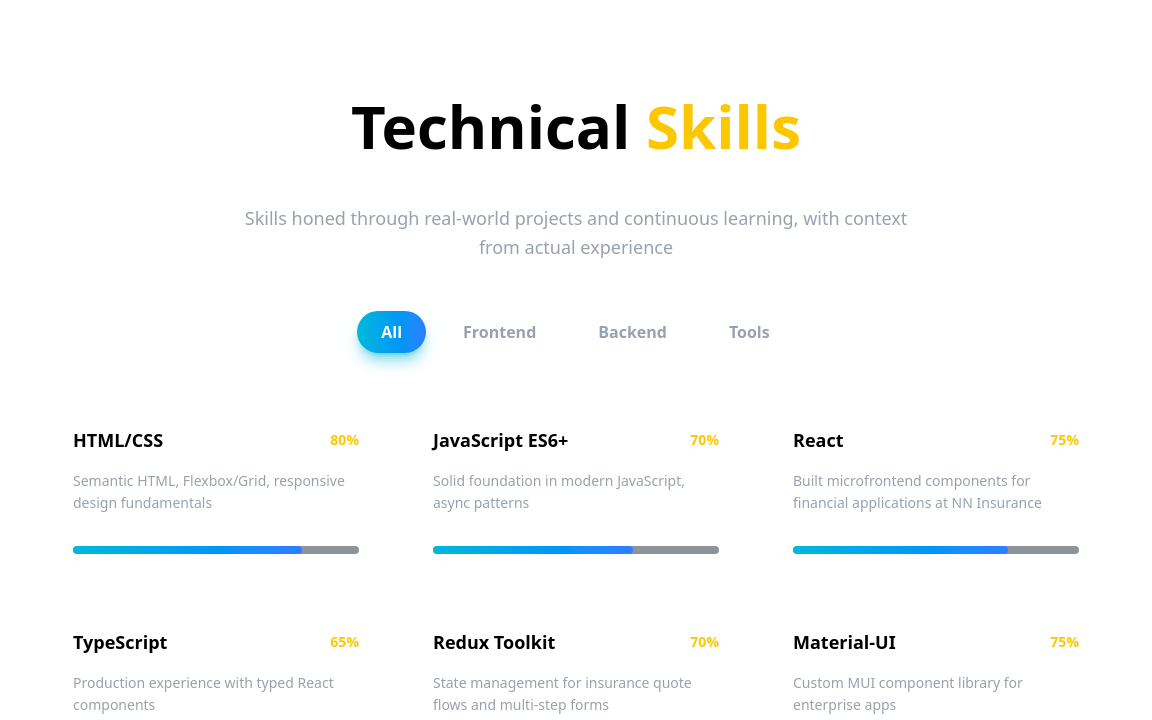
Test: SkillsSection — filter behaviour › Backend filter shows exactly the backend skill count
The width and height of the screenshot is (1152, 720).
Click the button "Backend" at (633, 332), box [573,310,692,352]
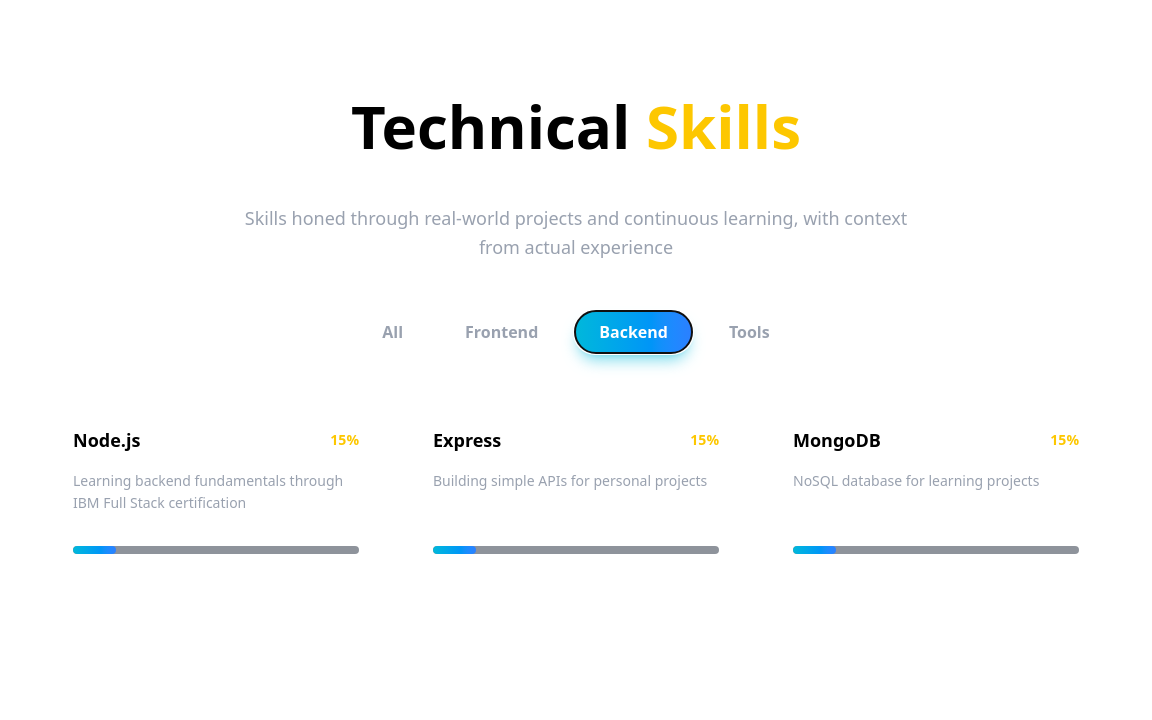
expect the number of progress indicators is 3: met, box [73,546,359,554]; [433,546,719,554]; [793,546,1079,554]
